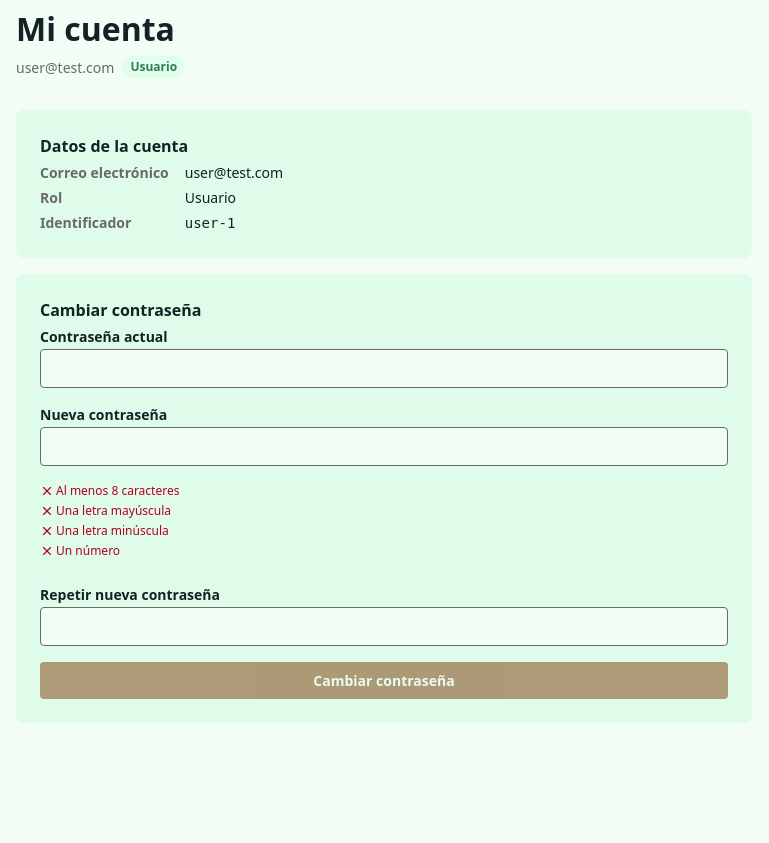
Test case: CuentaPage › muestra error si la contrasena actual es incorrecta (401)
The width and height of the screenshot is (769, 843).
In the password field labelled "Contraseña actual": [384, 369] box [40,349,728,388], type "Wrongpass1"
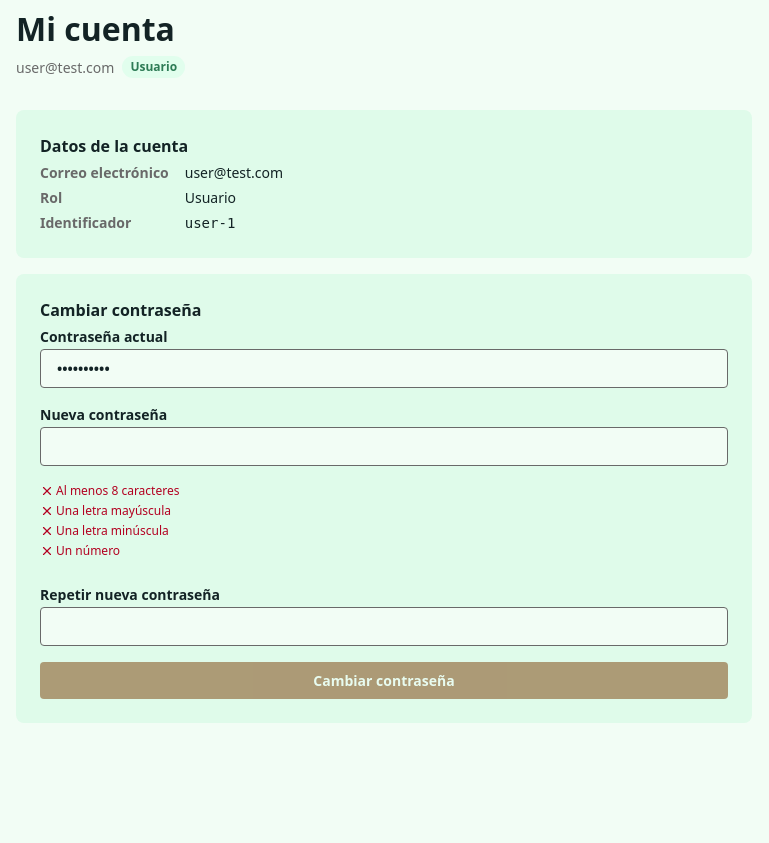
In the password field labelled "Nueva contraseña": [384, 447] box [40,427,728,466], type "Newpass1"
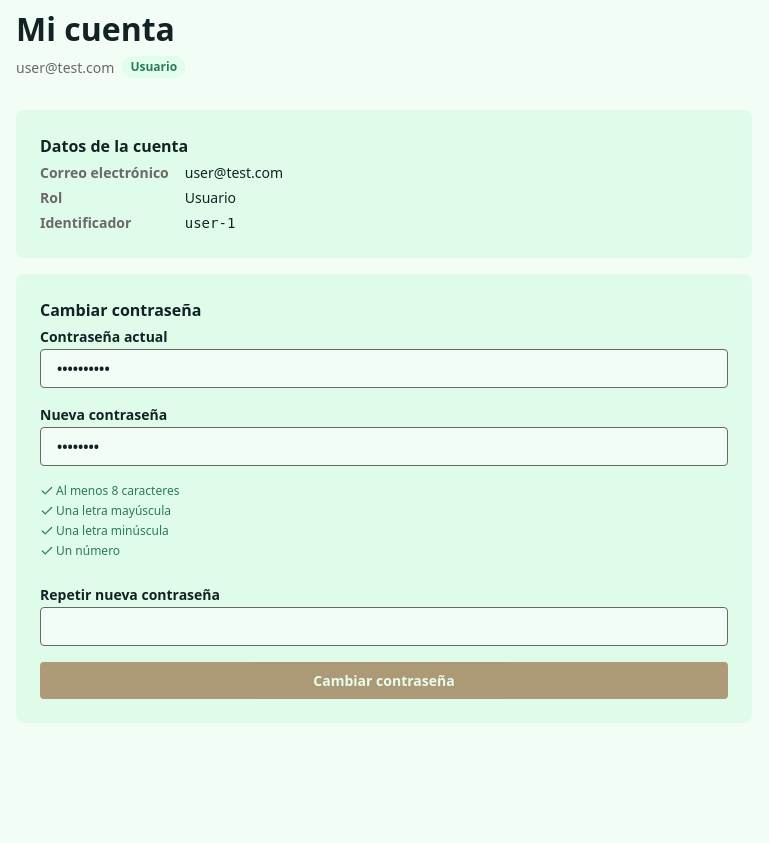
In the password field labelled "Repetir nueva contraseña": [384, 627] box [40,607,728,646], type "Newpass1"
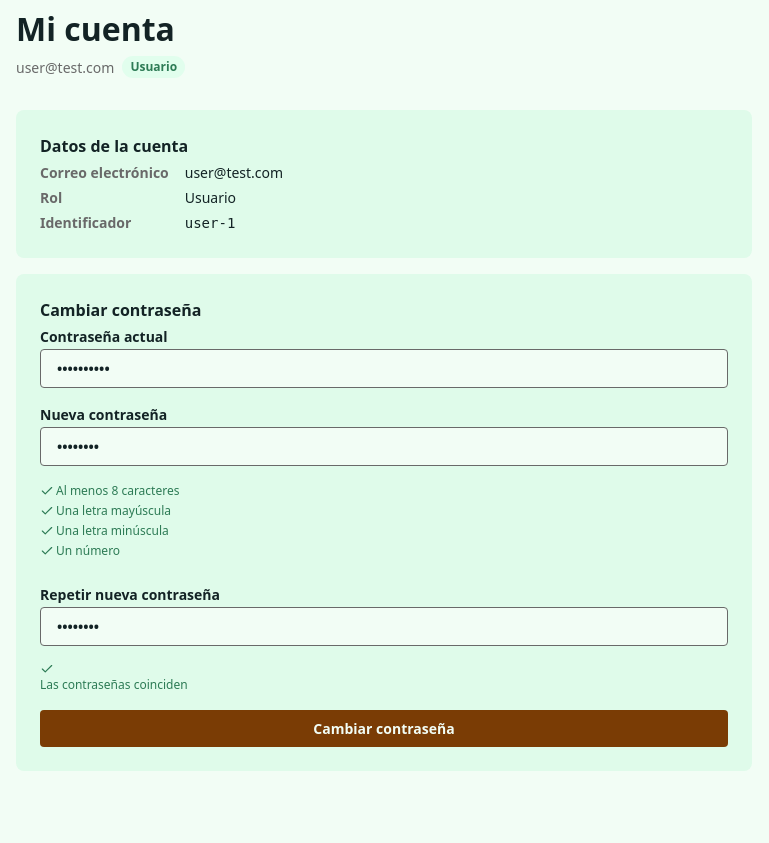
Click the button "Cambiar contraseña": [384, 729] box [40,710,728,747]
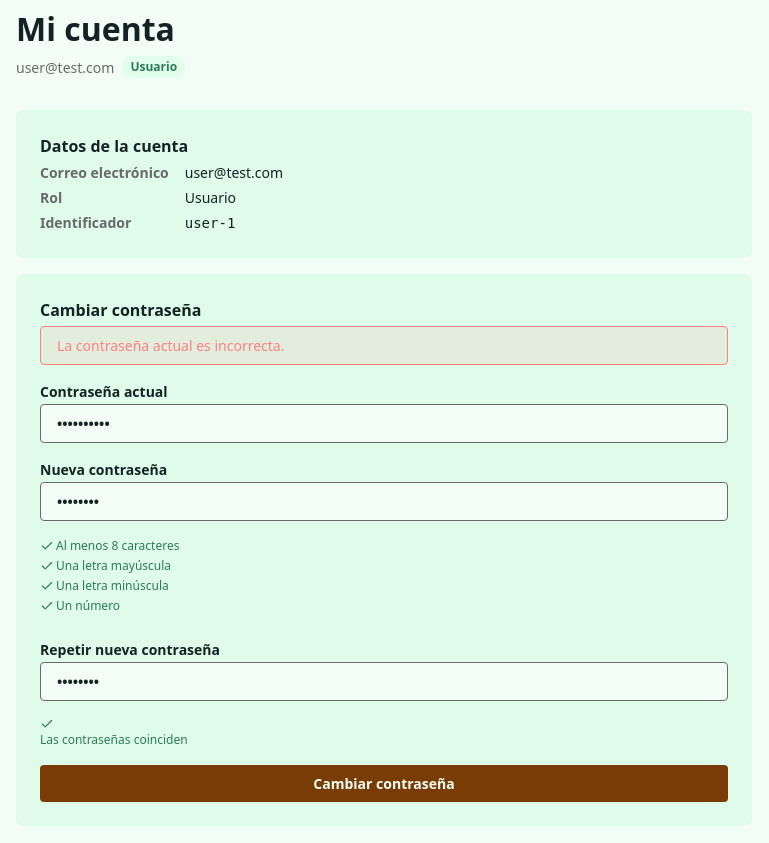
Now the text "La contraseña actual es incorrecta." is shown, box [40,326,728,365]
